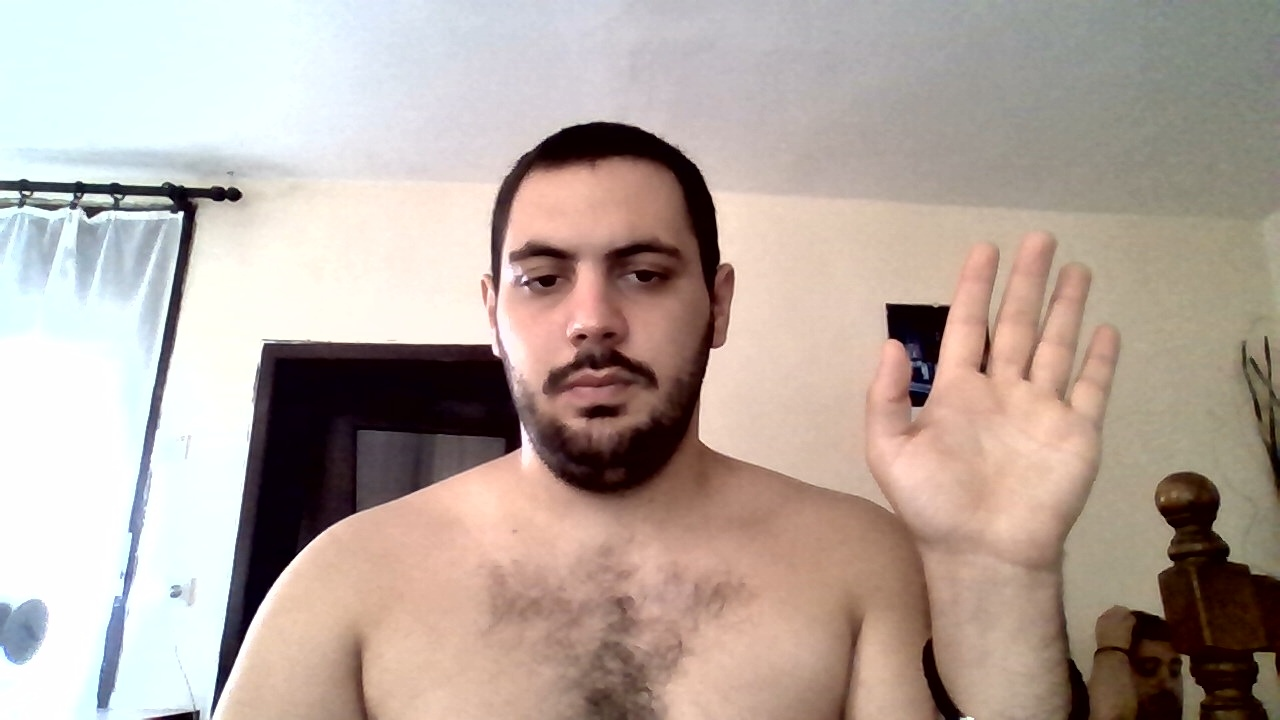palm: (865, 228, 1121, 553)
